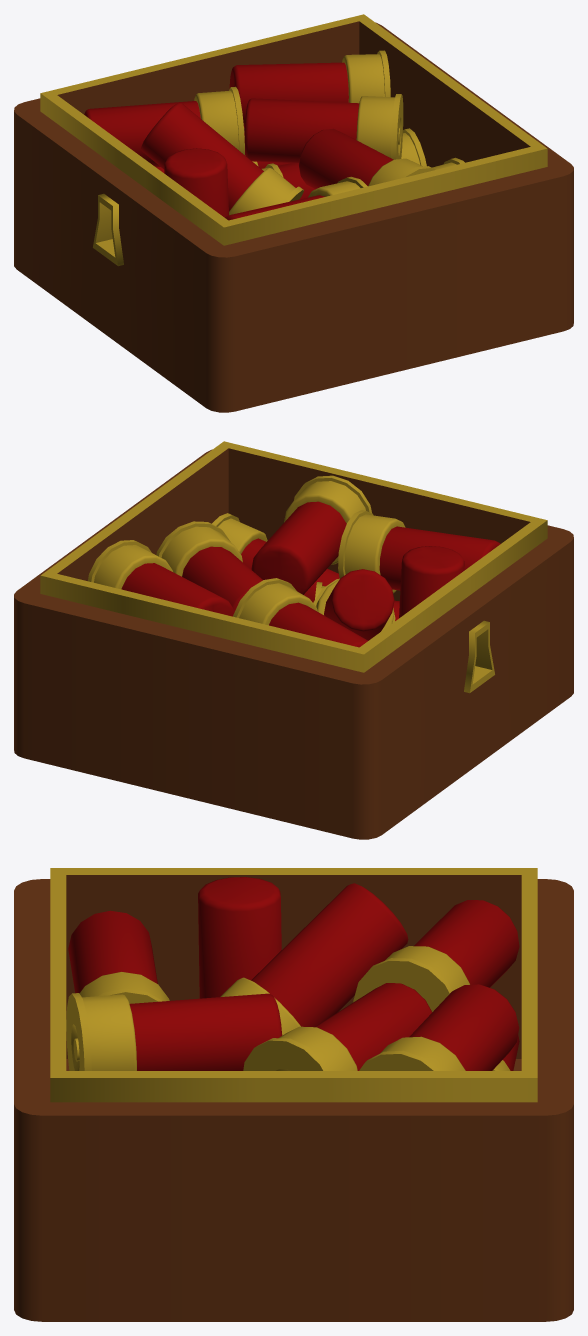
Rendered from multiple_piercing.fbx.
3 views of the same model, one above another, from view 1: azimuth 30°, elevation 25°; view 2: azimuth 150°, elevation 25°; view 3: azimuth 270°, elevation 25° (orthographic). The views are drawn at different scales.
Visible parts, largest first — view 1: Kiste, Cylinder.022, Cylinder.007, Cylinder.001, Cylinder.011, Cylinder.023, Cylinder, Cylinder.005, Cylinder.017; view 2: Kiste, Cylinder.023, Cylinder.017, Cylinder.022, Cylinder.007, Cylinder.011, Cylinder.001, Cylinder, Cylinder.015; view 3: Kiste, Cylinder.023, Cylinder.001, Cylinder.011, Cylinder.022, Cylinder.007, Cylinder, Cylinder.017.
Boxes of the visible parts, <box> form: Kiste: <box>14,14,573,412</box>; Cylinder.022: <box>244,94,403,163</box>; Cylinder.007: <box>229,50,390,127</box>; Cylinder.001: <box>141,103,304,215</box>; Cylinder.011: <box>84,86,244,167</box>; Cylinder.023: <box>299,128,435,189</box>; Cylinder: <box>164,148,228,217</box>; Cylinder.005: <box>278,128,426,199</box>; Cylinder.017: <box>225,176,367,220</box>; Kiste: <box>14,441,573,839</box>; Cylinder.023: <box>251,475,372,594</box>; Cylinder.017: <box>338,510,500,593</box>; Cylinder.022: <box>156,521,262,611</box>; Cylinder.007: <box>88,540,234,616</box>; Cylinder.011: <box>233,578,367,647</box>; Cylinder.001: <box>313,569,395,640</box>; Cylinder: <box>399,546,464,618</box>; Cylinder.015: <box>212,513,339,602</box>; Kiste: <box>14,868,573,1321</box>; Cylinder.023: <box>66,993,282,1070</box>; Cylinder.001: <box>220,883,408,1035</box>; Cylinder.011: <box>353,900,519,1011</box>; Cylinder.022: <box>243,983,432,1070</box>; Cylinder.007: <box>359,984,519,1070</box>; Cylinder: <box>198,877,281,998</box>; Cylinder.017: <box>68,910,169,1003</box>.
Bounding box in the file's own units: 1017 × 505 × 1000.
